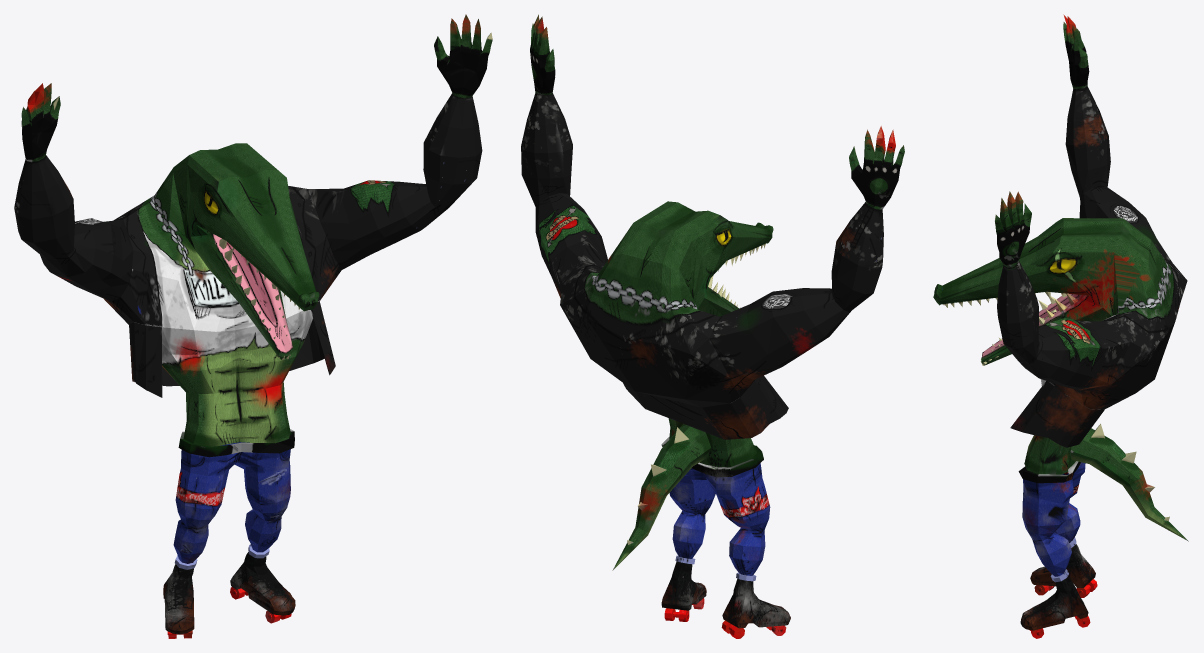
Rendered from cocodrilaBonesSelect_000010.obj.
3 views of the same model, side by side, from view 1: azimuth 30°, elevation 25°; view 2: azimuth 150°, elevation 25°; view 3: azimuth 270°, elevation 25° (orthographic). The views are drawn at different scales.
Visible parts, largest first — view 1: Crocodile.002_Cylinder.002; view 2: Crocodile.002_Cylinder.002; view 3: Crocodile.002_Cylinder.002.
Boxes of the visible parts, x1,y1,x2,y2 form: Crocodile.002_Cylinder.002: (14,14,492,638); Crocodile.002_Cylinder.002: (521,14,904,638); Crocodile.002_Cylinder.002: (933,14,1188,638).
Size of the model in its own units: 6.61 by 8.43 by 3.75.
